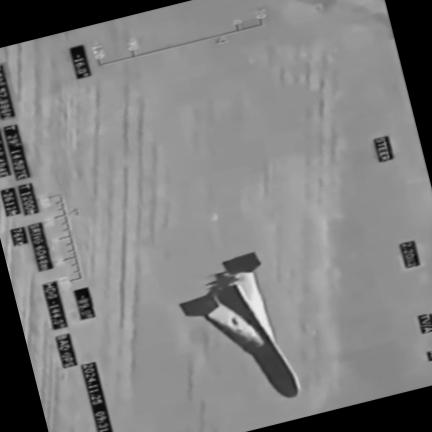Shahed: (179, 253, 299, 398)
